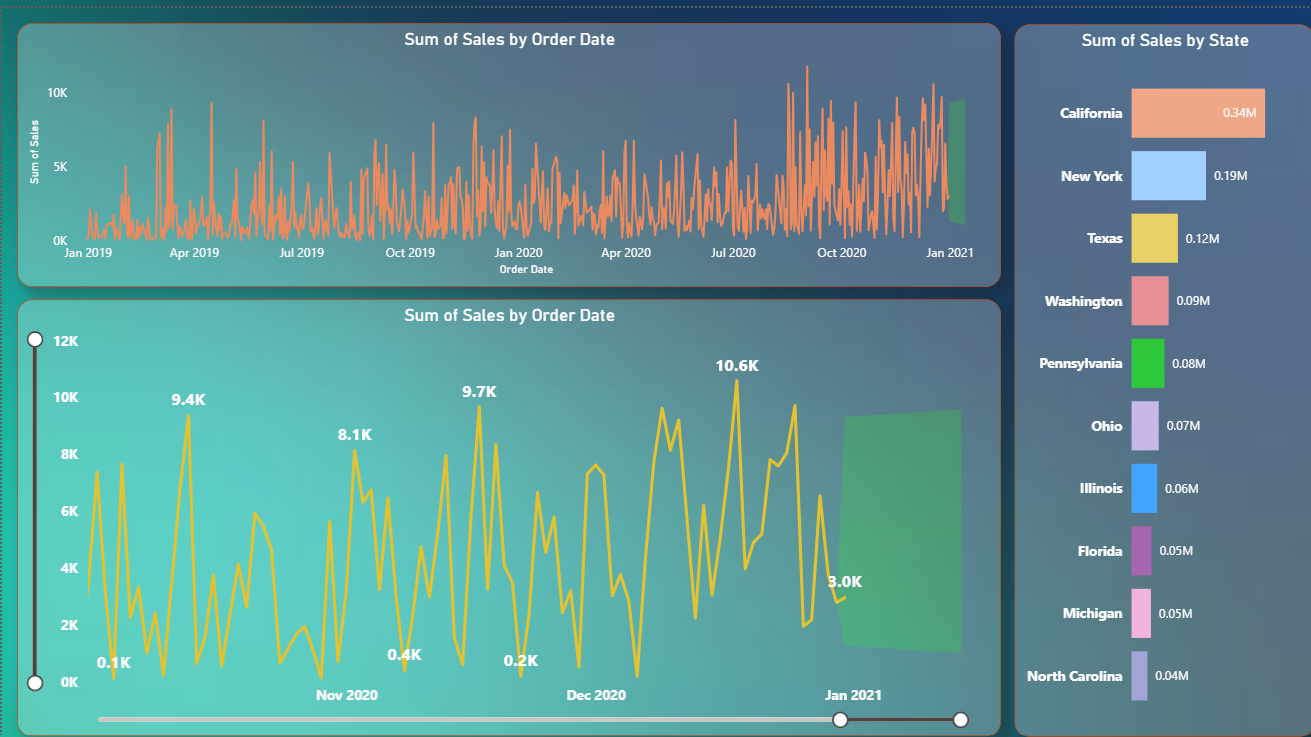

Layout of this report page (visuals, bound fields, positions):
{"tool":"powerbi","page":{"name":"Page 2","canvas":[1280,720],"ordinal":1},"visuals":[{"type":"lineChart","fields":{"Y":["Sum(SuperStore_Sales_Dataset.Sales)"],"Category":["SuperStore_Sales_Dataset.Order Date"]},"box":[15,15,960,257.5],"z":0},{"type":"lineChart","fields":{"Y":["Sum(SuperStore_Sales_Dataset.Sales)"],"Category":["SuperStore_Sales_Dataset.Order Date"]},"box":[15,283.8,960,427.5],"z":1000},{"type":"clusteredBarChart","fields":{"Y":["Sum(SuperStore_Sales_Dataset.Sales)"],"Category":["SuperStore_Sales_Dataset.State"]},"box":[987.5,15.3,293.1,695.8],"z":2000}]}

Visuals, with their boxes in screenshot pixels (x1, y1, x2, y2), scaled from the page's 1280x720 canvas onto the 1311x737 screenshot:
lineChart - Sum(SuperStore_Sales_Dataset.Sales) x SuperStore_Sales_Dataset.Order Date: (left=15, top=15, right=999, bottom=279)
lineChart - Sum(SuperStore_Sales_Dataset.Sales) x SuperStore_Sales_Dataset.Order Date: (left=15, top=291, right=999, bottom=728)
clusteredBarChart - Sum(SuperStore_Sales_Dataset.Sales) x SuperStore_Sales_Dataset.State: (left=1011, top=16, right=1310, bottom=728)
